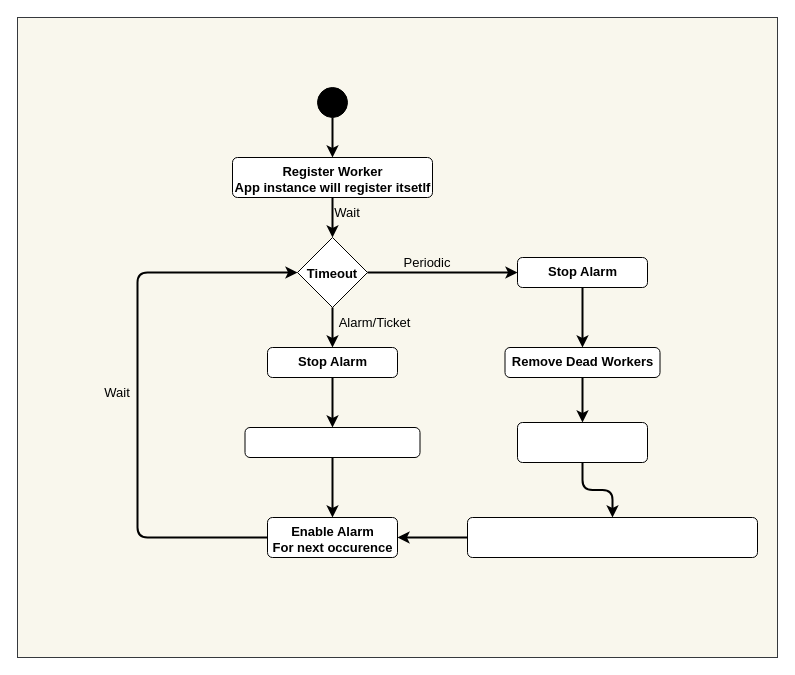
The diagram is 795 pixels wide and 675 high, and some of its shapes have lost their labels. Here are the shapes that lost their labels. From the top down, the centre of each, then its label:
At (332,442): "Check Expired Occurences".
At (582,442): "Punch Card Prove own liveliness".
At (612,537): "Get New Work Assign Unassigned occurences to itself".
